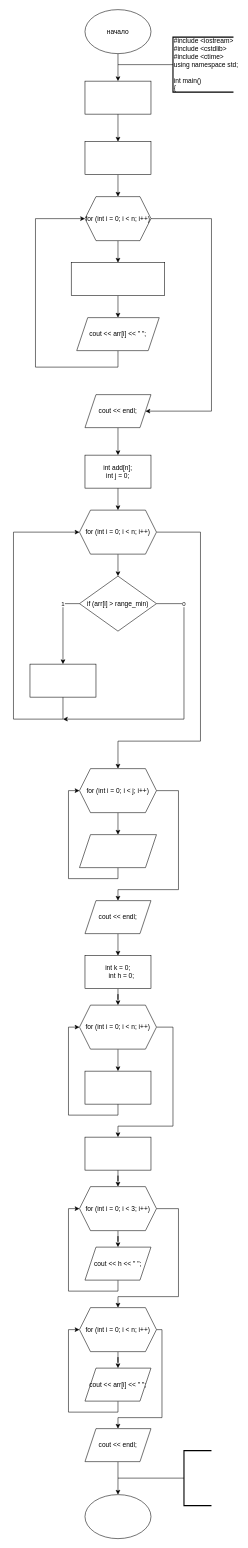
Some shapes in this 248 by 1548 pixel diagram are drawn without their labels. Each missing label, with the centre of its shape:
add[j] = arr[i]; j++;: pixel 62 680
arr[i] = ((double)rand() / RAND_MAX) * (range_max - range_min) + range_min;: pixel 118 279
const int n = 7; int arr[n];: pixel 117 158
cout << add[i] << " ";: pixel 117 851
h = k / 2;: pixel 117 1153
k += arr[i];: pixel 117 1087
return 0; }: pixel 197 1478
srand(time(0));: pixel 117 97
конец: pixel 117 1516
